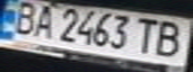2: (54, 6, 81, 44)
3: (109, 11, 136, 52)
4: (75, 8, 96, 47)
6: (90, 10, 115, 49)
A: (27, 2, 60, 39)
B: (148, 18, 190, 58), (6, 0, 42, 36)
T: (130, 16, 163, 55)
